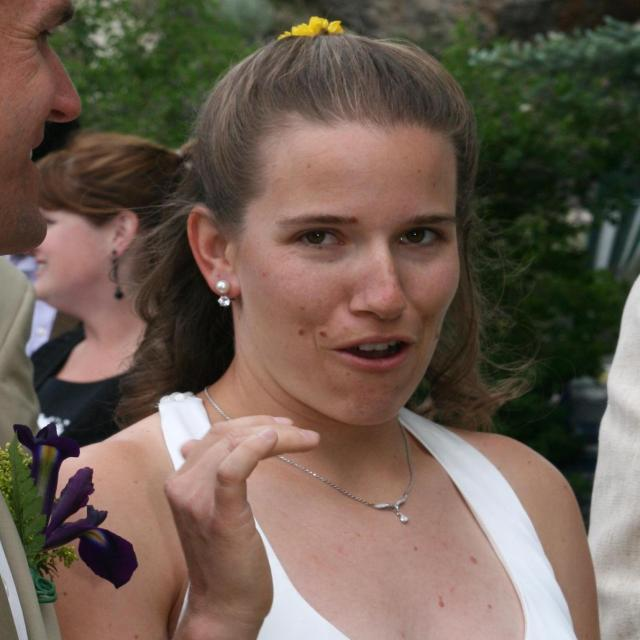no-glass: (283, 224, 443, 250)
